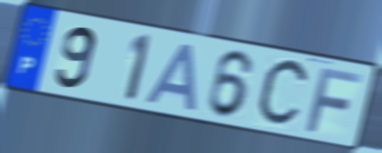1: (124, 32, 153, 104)
6: (206, 48, 255, 121)
9: (55, 24, 97, 90)
A: (142, 40, 200, 114)
C: (253, 56, 313, 131)
F: (303, 64, 366, 135)
